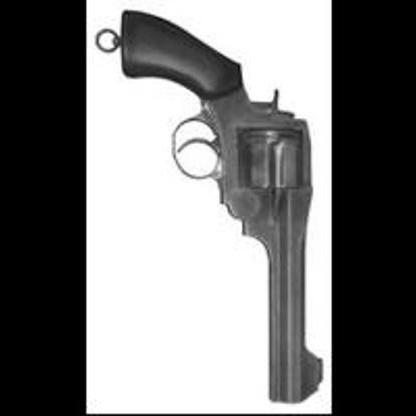weapon: (96, 2, 326, 408)
